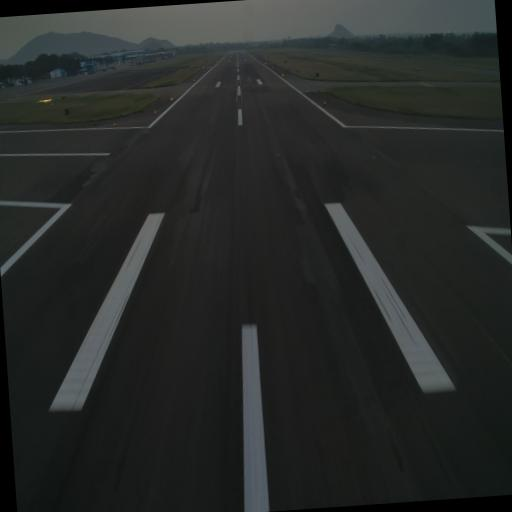on: (152, 110, 158, 116), (112, 122, 117, 128), (323, 100, 326, 106)
